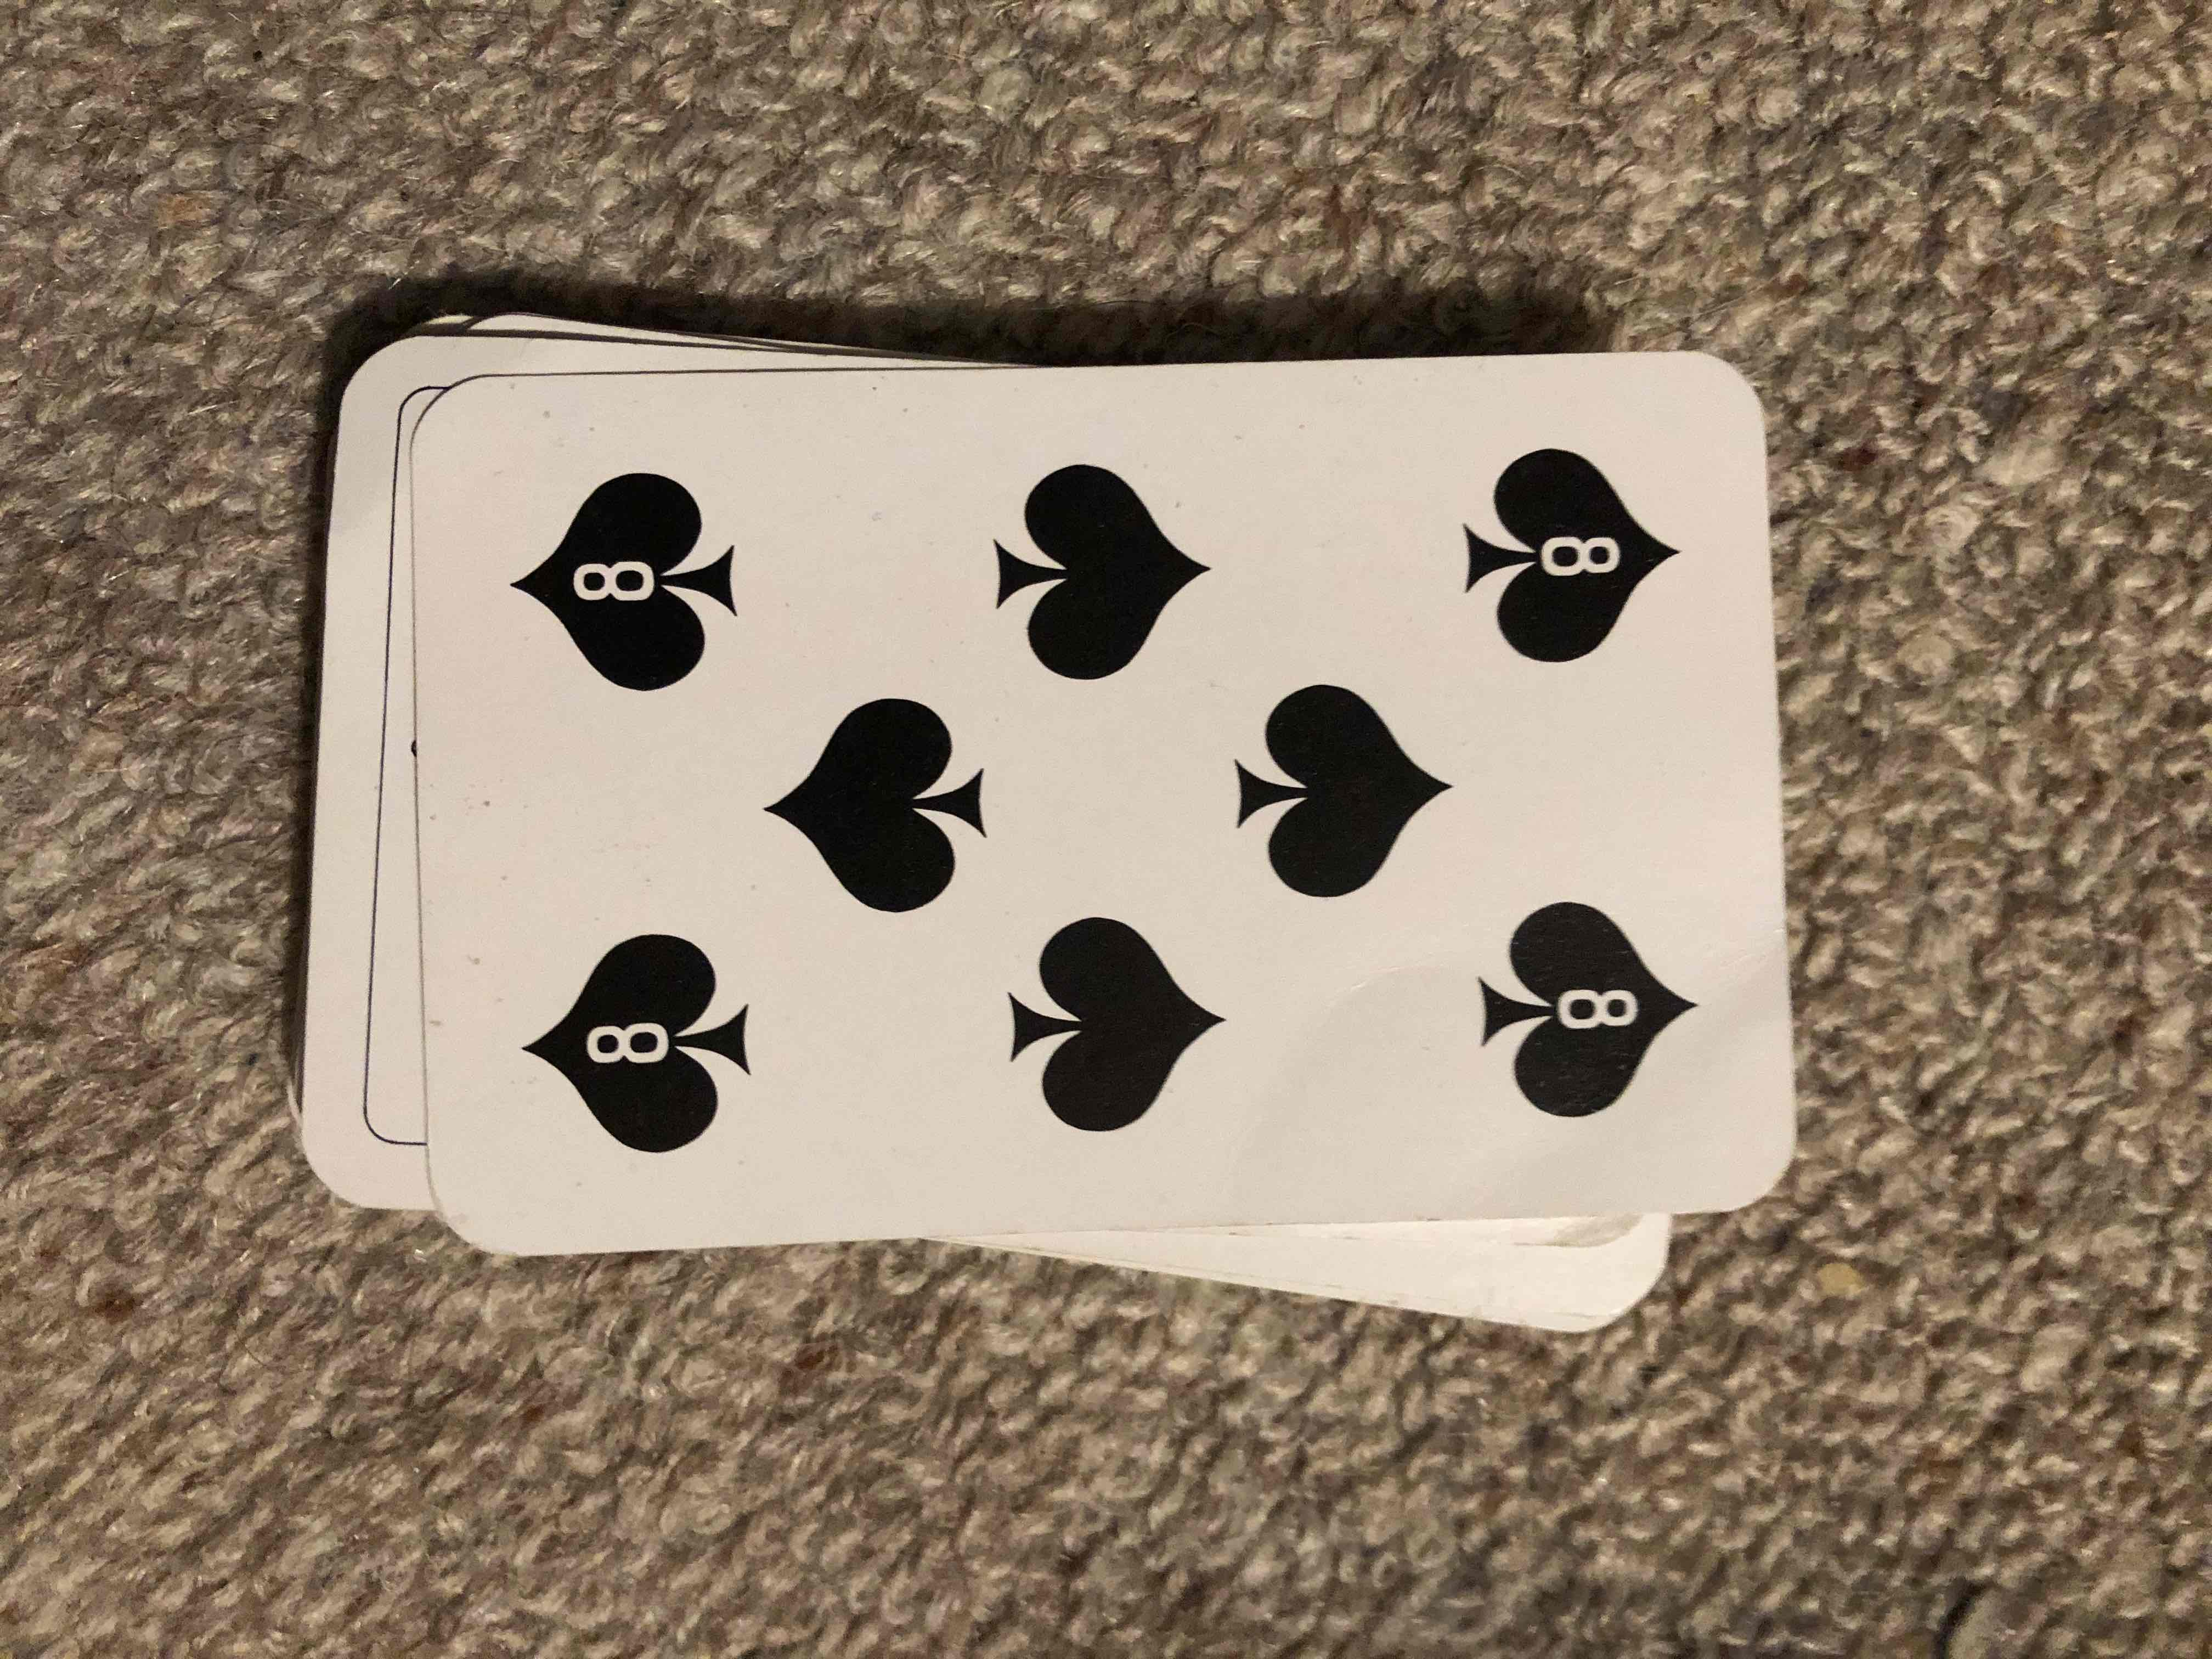spades8: (418, 371, 1797, 1213)
